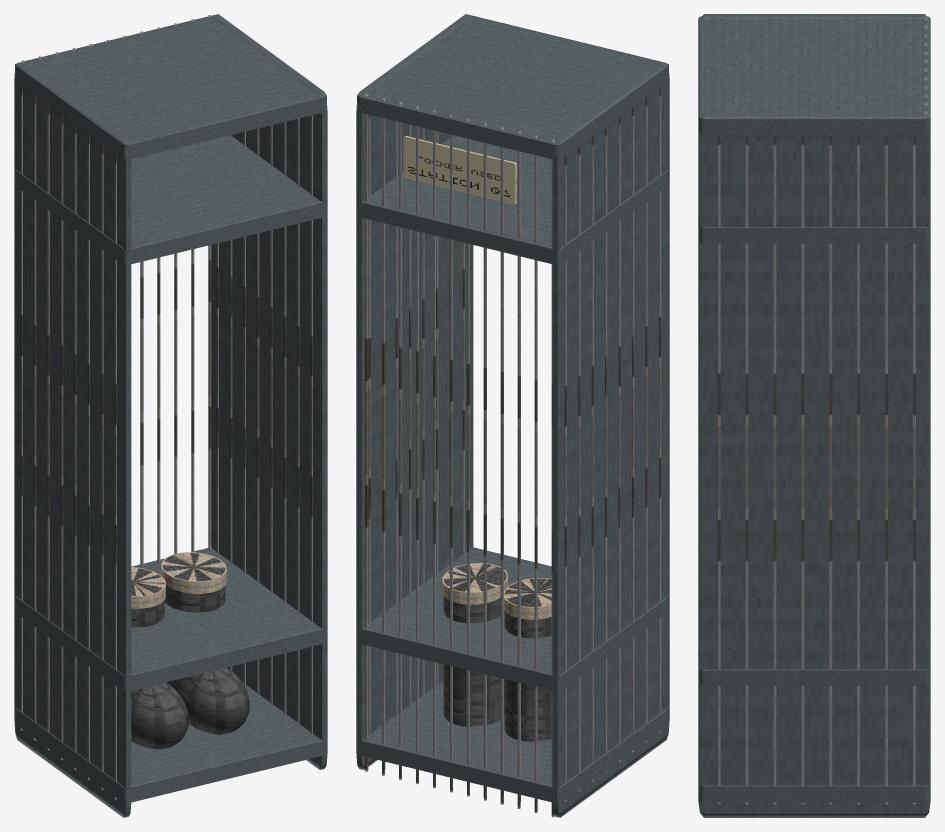
The model's file is locker-used.glb.
3 renders of one model, left to right at view 1: azimuth 30°, elevation 25°; view 2: azimuth 150°, elevation 25°; view 3: azimuth 270°, elevation 25°, orthographic. The views are drawn at different scales.
Visible parts, largest first — view 1: side (×2), shelf (×4), rail (×16), boots-toe (×2), back-wire (×5), boots-upper (×2), boots-collar (×2); view 2: side (×2), shelf (×4), back-wire (×12), rail (×14), boots-upper (×2), name, boots-collar (×2); view 3: side (×2), shelf (×4), rail (×8).
Part boxes in pixels (x1,y1,x2,y2): side (×2): [14, 14, 327, 817]; shelf (×4): [15, 15, 326, 802]; rail (×16): [20, 85, 312, 799]; boots-toe (×2): [131, 667, 249, 749]; back-wire (×5): [140, 15, 211, 566]; boots-upper (×2): [131, 553, 225, 687]; boots-collar (×2): [131, 552, 226, 608]; side (×2): [356, 14, 669, 817]; shelf (×4): [357, 15, 668, 802]; back-wire (×12): [365, 93, 554, 817]; rail (×14): [368, 86, 661, 801]; boots-upper (×2): [443, 564, 551, 741]; name: [403, 136, 516, 204]; boots-collar (×2): [442, 563, 551, 619]; side (×2): [698, 14, 930, 817]; shelf (×4): [698, 16, 930, 801]; rail (×8): [717, 134, 915, 804].
Size of the model in its own units: 0.6 by 1.9 by 0.57.
Materials: 5 (5 with a texture image).
